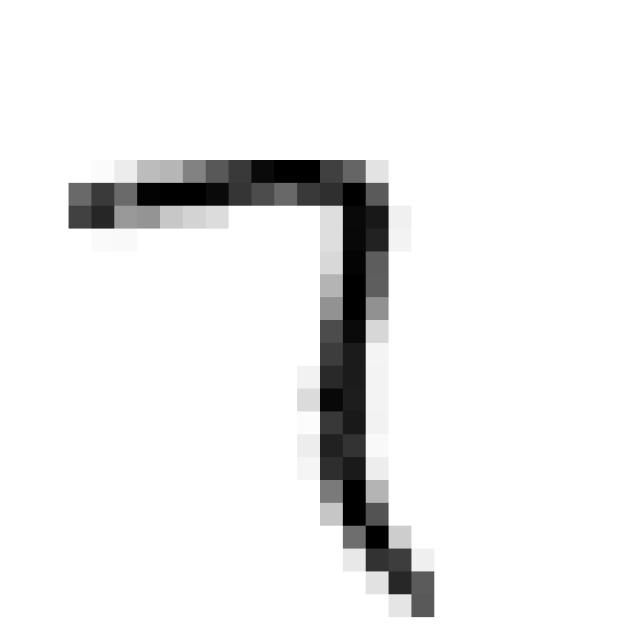6 -six-: (50, 135, 458, 633)
